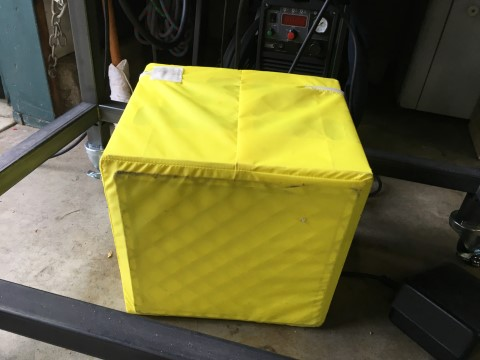cube: (99, 62, 375, 328)
